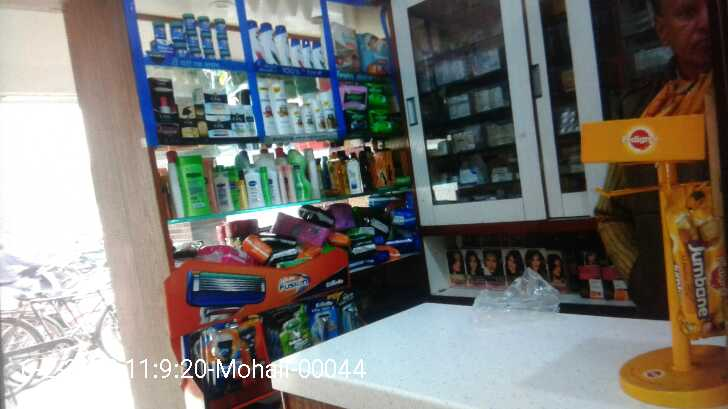beauty: (149, 72, 253, 136), (256, 76, 336, 133), (249, 19, 333, 71)
pharmacy: (143, 11, 239, 63), (339, 80, 404, 138), (332, 15, 359, 72), (361, 30, 394, 75)
